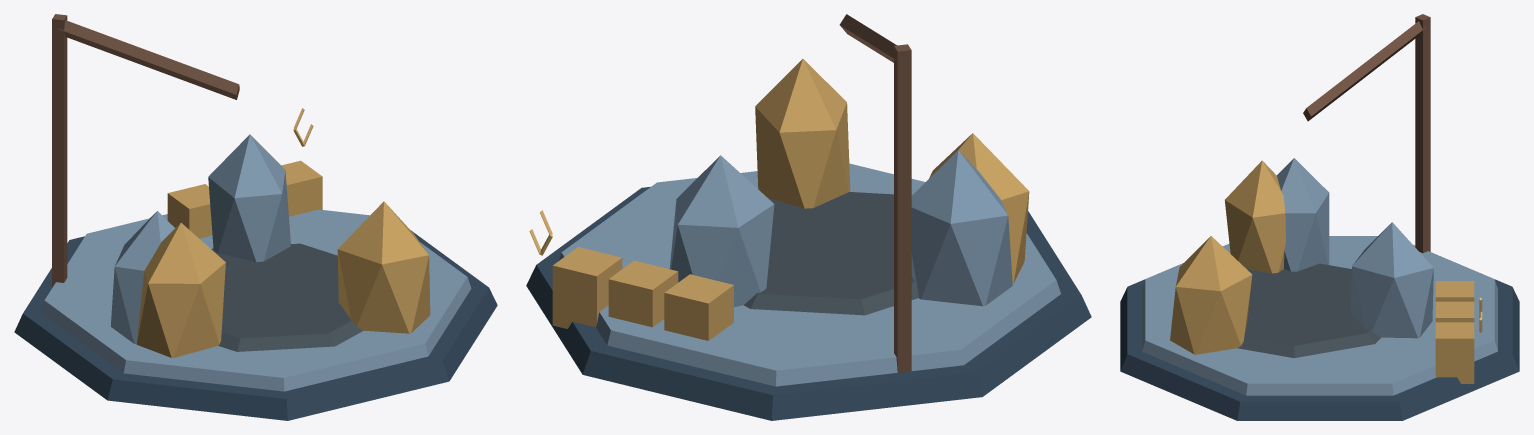
The model's file is Quarry_2.fbx.
The picture shows the model from 3 angles, left to right: view 1: azimuth 30°, elevation 25°; view 2: azimuth 150°, elevation 25°; view 3: azimuth 270°, elevation 25°; orthographic projection. The views are drawn at different scales.
Parts seen in each view (by area): view 1: Quarry_2; view 2: Quarry_2; view 3: Quarry_2.
Boxes of the visible parts, x1,y1,x2,y2 form: Quarry_2: (14, 14, 497, 420); Quarry_2: (526, 14, 1091, 420); Quarry_2: (1120, 14, 1519, 420).
Size of the model in its own units: 2.9 by 2.21 by 2.9.
